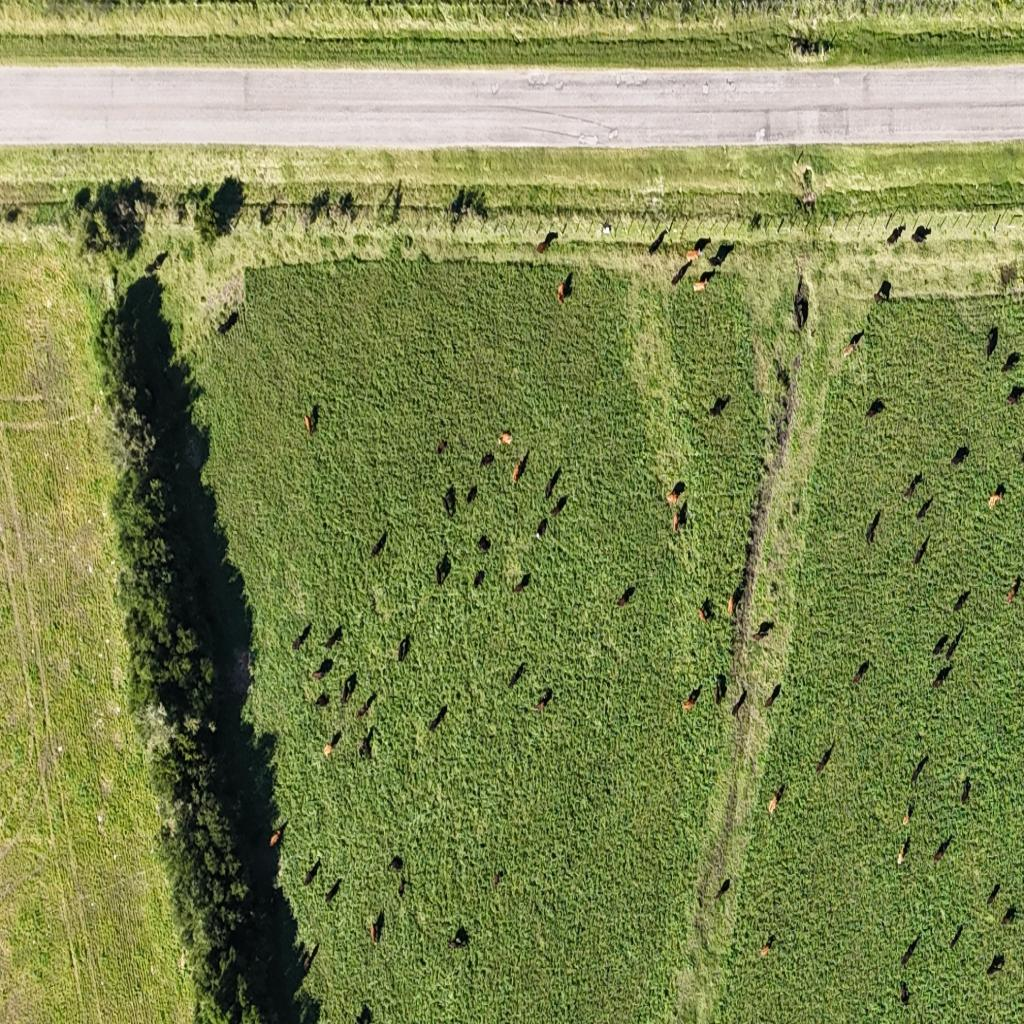cow: (816, 738, 836, 775), (648, 222, 669, 256), (946, 626, 966, 660), (708, 242, 734, 268), (933, 832, 954, 864), (901, 934, 920, 968), (912, 533, 930, 567), (842, 330, 864, 357), (866, 508, 882, 544), (910, 754, 928, 786), (448, 925, 470, 951), (218, 310, 240, 336), (449, 189, 465, 224), (358, 725, 374, 760), (512, 450, 528, 485), (985, 481, 1006, 507), (764, 682, 782, 712), (684, 683, 702, 713), (323, 624, 342, 652), (931, 630, 950, 658), (776, 414, 790, 452), (310, 658, 332, 682), (340, 673, 356, 706), (303, 858, 321, 887), (902, 474, 922, 500), (666, 480, 686, 506), (731, 686, 747, 718), (770, 781, 786, 813), (545, 466, 560, 500), (794, 294, 808, 330), (271, 820, 289, 848), (950, 444, 971, 468), (324, 730, 342, 758), (672, 261, 692, 286), (303, 942, 319, 973), (729, 582, 744, 615), (292, 622, 311, 648), (952, 588, 971, 614), (390, 182, 403, 220), (533, 691, 551, 718), (147, 251, 169, 273), (536, 230, 557, 253), (931, 665, 952, 688), (558, 272, 573, 304), (370, 530, 387, 558), (370, 910, 384, 944), (672, 502, 686, 536), (429, 706, 447, 732), (550, 495, 568, 521), (1000, 352, 1021, 374), (886, 222, 905, 246), (790, 353, 802, 391), (775, 358, 790, 388), (986, 952, 1004, 977), (324, 877, 340, 905), (436, 554, 450, 586), (1005, 578, 1021, 606), (509, 662, 526, 688), (852, 660, 869, 686), (698, 598, 715, 624), (753, 620, 775, 640), (709, 396, 728, 419), (986, 324, 998, 360), (911, 224, 931, 245), (986, 880, 1001, 908), (949, 922, 964, 950), (616, 584, 635, 606), (714, 877, 730, 903), (358, 693, 374, 719), (916, 495, 932, 521), (873, 280, 891, 303), (512, 573, 530, 596), (303, 407, 317, 436), (866, 399, 886, 419), (260, 201, 276, 226), (599, 638, 618, 659), (695, 266, 717, 284), (397, 634, 411, 662), (250, 824, 267, 847), (714, 674, 726, 706), (1000, 905, 1016, 928), (227, 1001, 243, 1024), (534, 516, 548, 542), (1005, 388, 1023, 408), (354, 1004, 372, 1024), (794, 269, 804, 305), (960, 776, 972, 805), (901, 804, 913, 833), (443, 488, 455, 516), (760, 934, 775, 956), (691, 238, 711, 254), (313, 690, 330, 708), (388, 856, 404, 875), (476, 534, 491, 554), (693, 278, 708, 295), (466, 484, 478, 505), (473, 569, 485, 590), (749, 212, 762, 231), (492, 868, 504, 888), (900, 980, 910, 1004), (746, 534, 756, 558), (480, 452, 494, 469), (499, 430, 513, 446), (897, 842, 906, 865), (437, 438, 448, 456), (397, 876, 406, 898), (727, 594, 735, 618), (694, 890, 704, 909), (323, 742, 333, 758), (792, 497, 800, 515), (1019, 451, 1024, 465)
